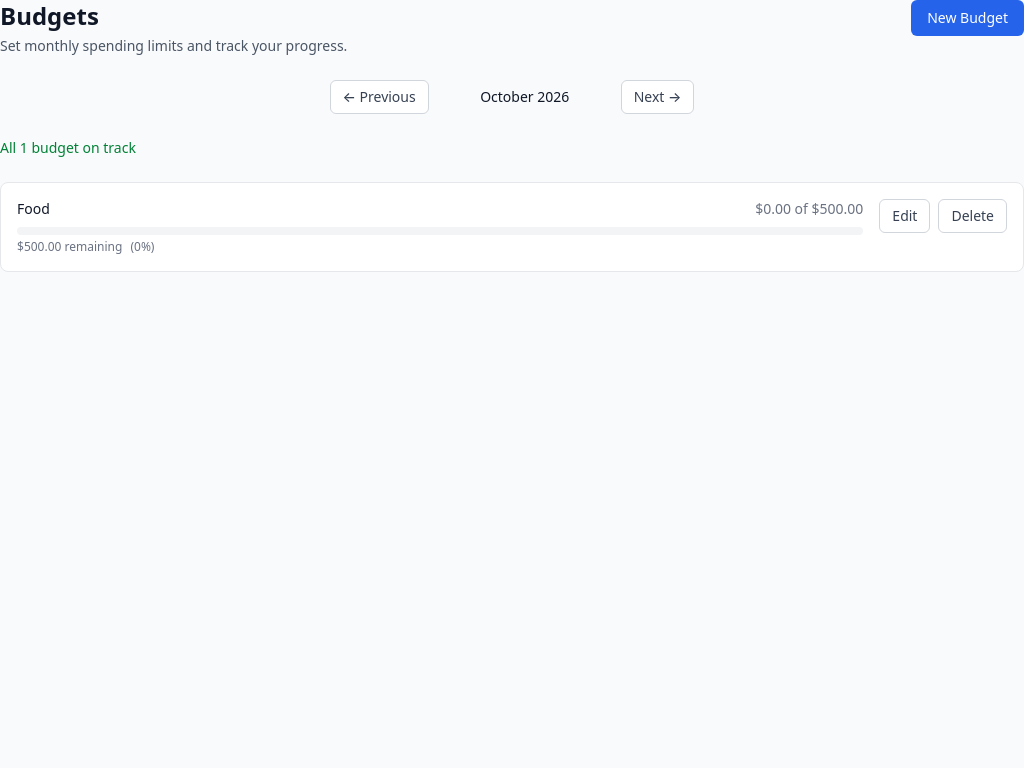
Budgets — create dialog › shows error when all categories budgeted
Expected: the heading "Food" is shown, [17,199,50,219]
Click the button "New Budget" at [968, 18], box [911,0,1023,36]
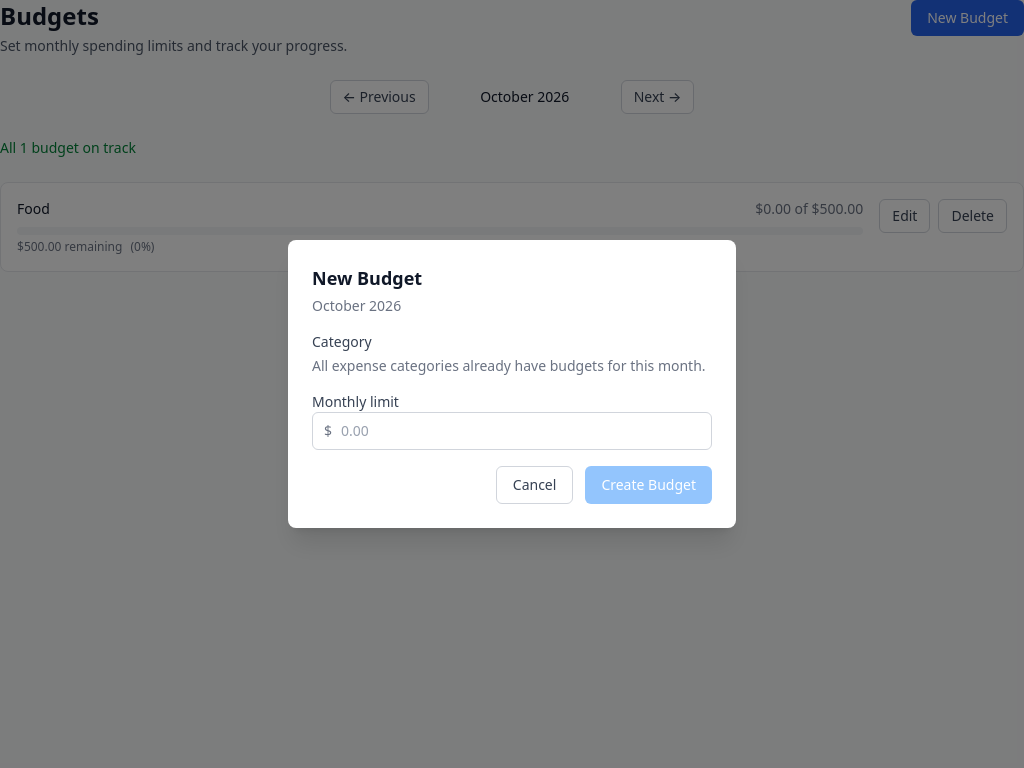
Result: the text "All expense categories already have budgets for this month." is shown at [312,356,712,376]
